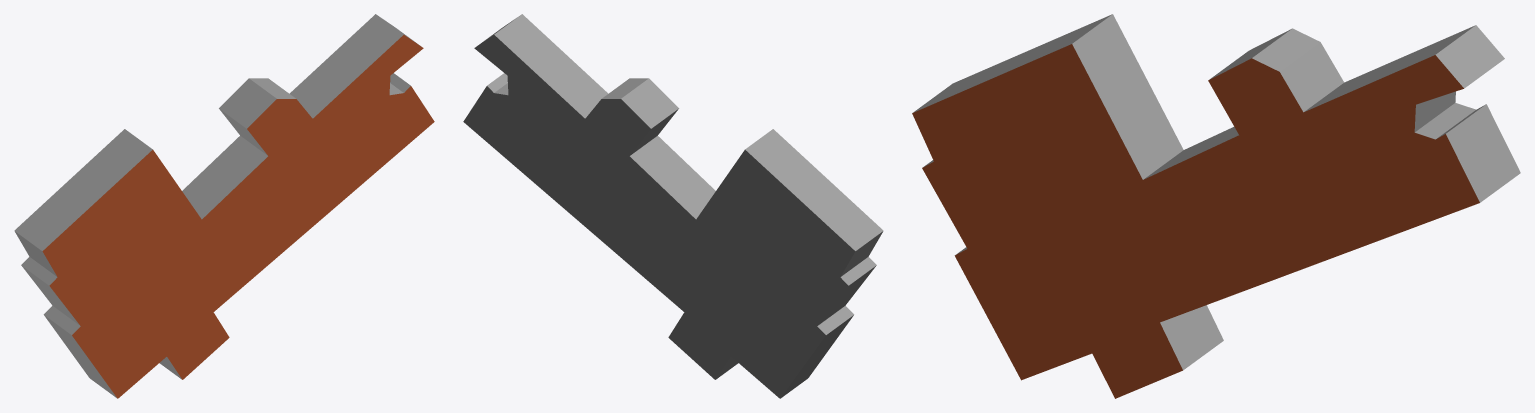
File: construction_6941_assumed_A_Casa_h6m.obj
3 renders of one model, left to right at view 1: azimuth 30°, elevation 25°; view 2: azimuth 150°, elevation 25°; view 3: azimuth 330°, elevation 25°, orthographic. The views are drawn at different scales.
Parts seen in each view (by area): view 1: construction_6941_assumed_A_Casa; view 2: construction_6941_assumed_A_Casa; view 3: construction_6941_assumed_A_Casa.
Boxes of the visible parts, box(x1,y1,x2,y2) form: construction_6941_assumed_A_Casa: box(14, 14, 434, 398); construction_6941_assumed_A_Casa: box(463, 14, 883, 398); construction_6941_assumed_A_Casa: box(912, 14, 1520, 398).
Bounding box in the file's own units: 48.18 × 34.57 × 6.
